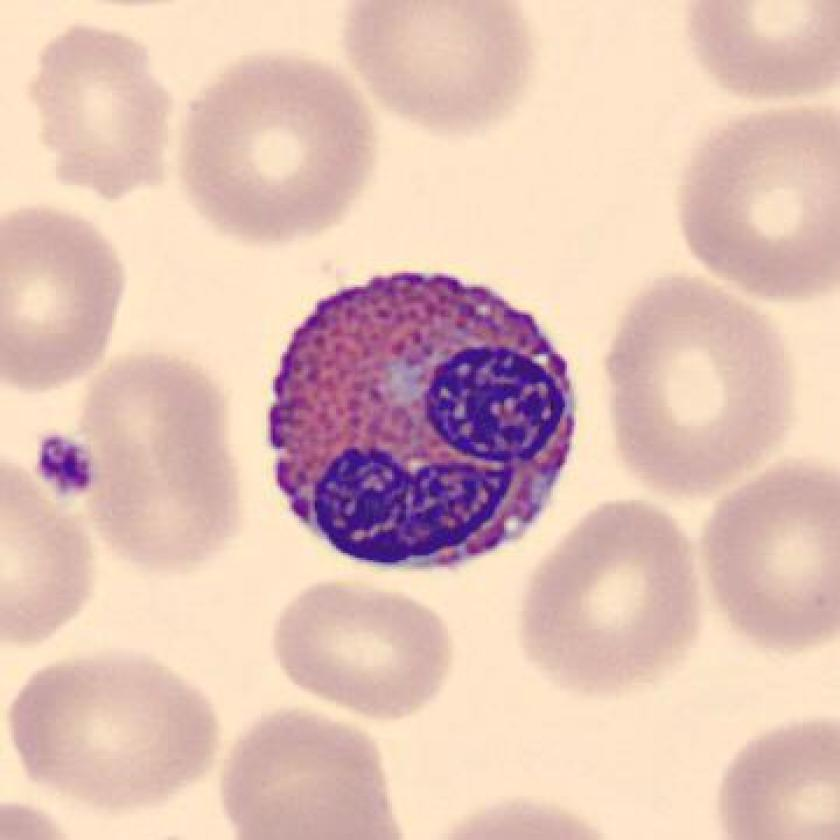eosinophil: (258, 258, 589, 584)
